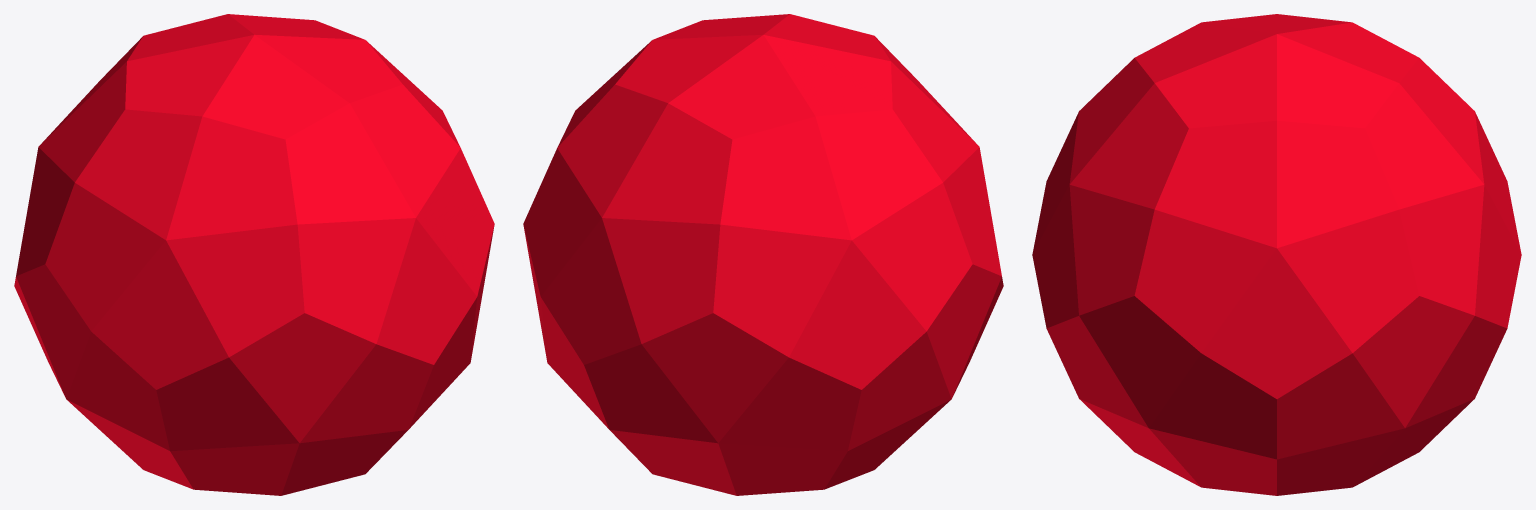
Rendered from RadishPollenSDM.fbx.
3 renders of one model, left to right at view 1: azimuth 30°, elevation 25°; view 2: azimuth 150°, elevation 25°; view 3: azimuth 270°, elevation 25°, orthographic.
Visible parts, largest first — view 1: Icosphere; view 2: Icosphere; view 3: Icosphere.
Boxes of the visible parts, box(x1,y1,x2,y2) form: Icosphere: box(14, 14, 494, 495); Icosphere: box(523, 14, 1003, 495); Icosphere: box(1032, 14, 1521, 495).
Size of the model in its own units: 148 by 148 by 149.
